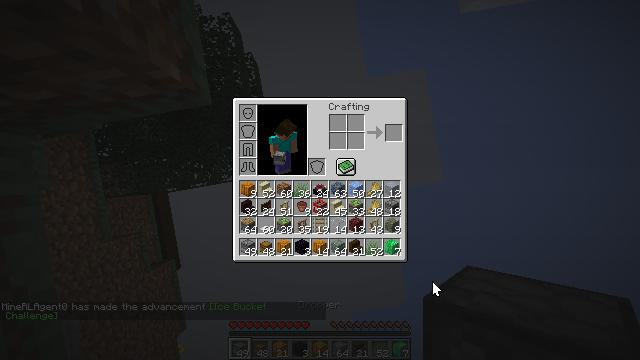cursor: (432, 281, 442, 297)
